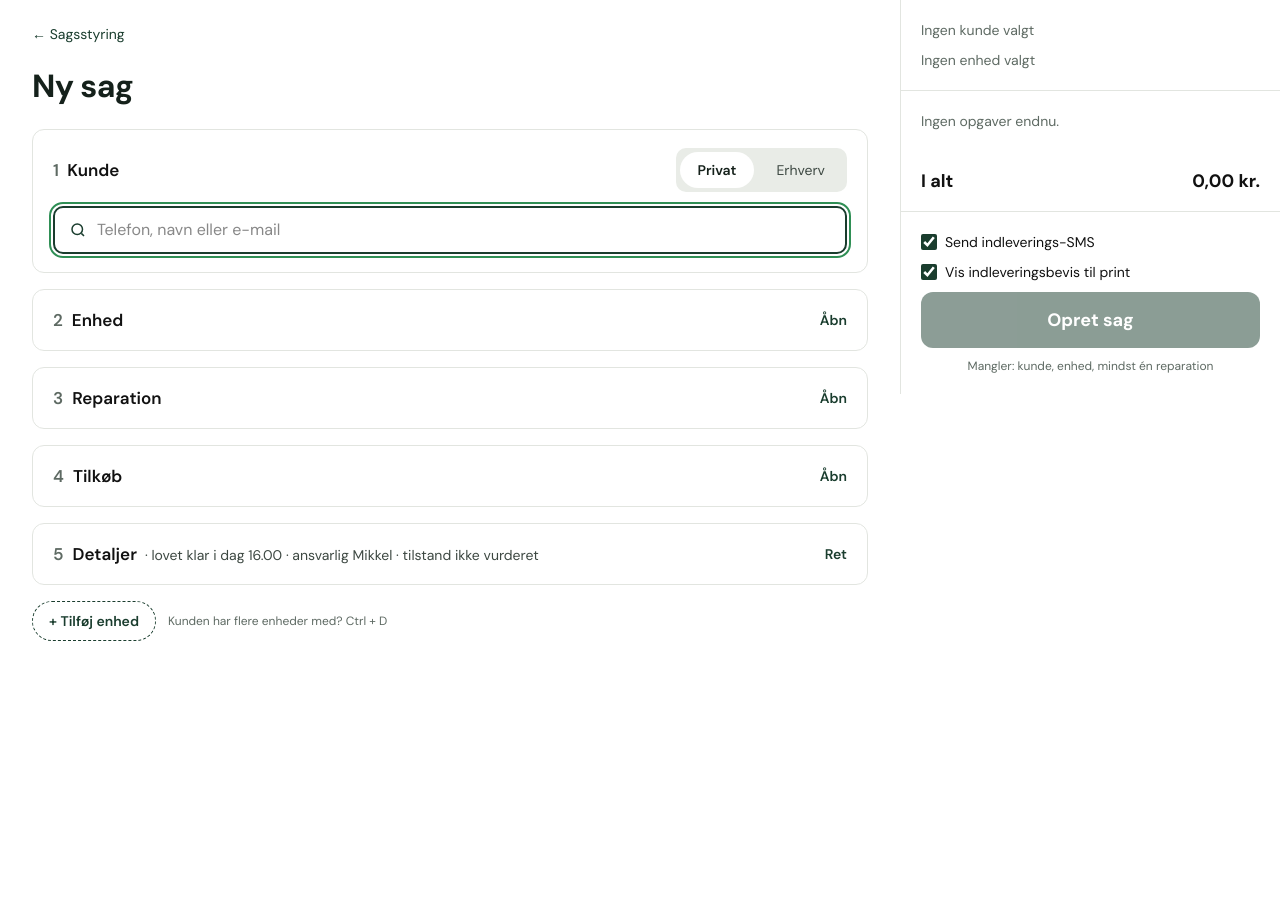
Test: Ny sag: sektionsflow › shows customer search with previous cases and an inline create row
Type "20 45" into the field named "Søg kunde" at (464, 230), box [97,218,831,242]
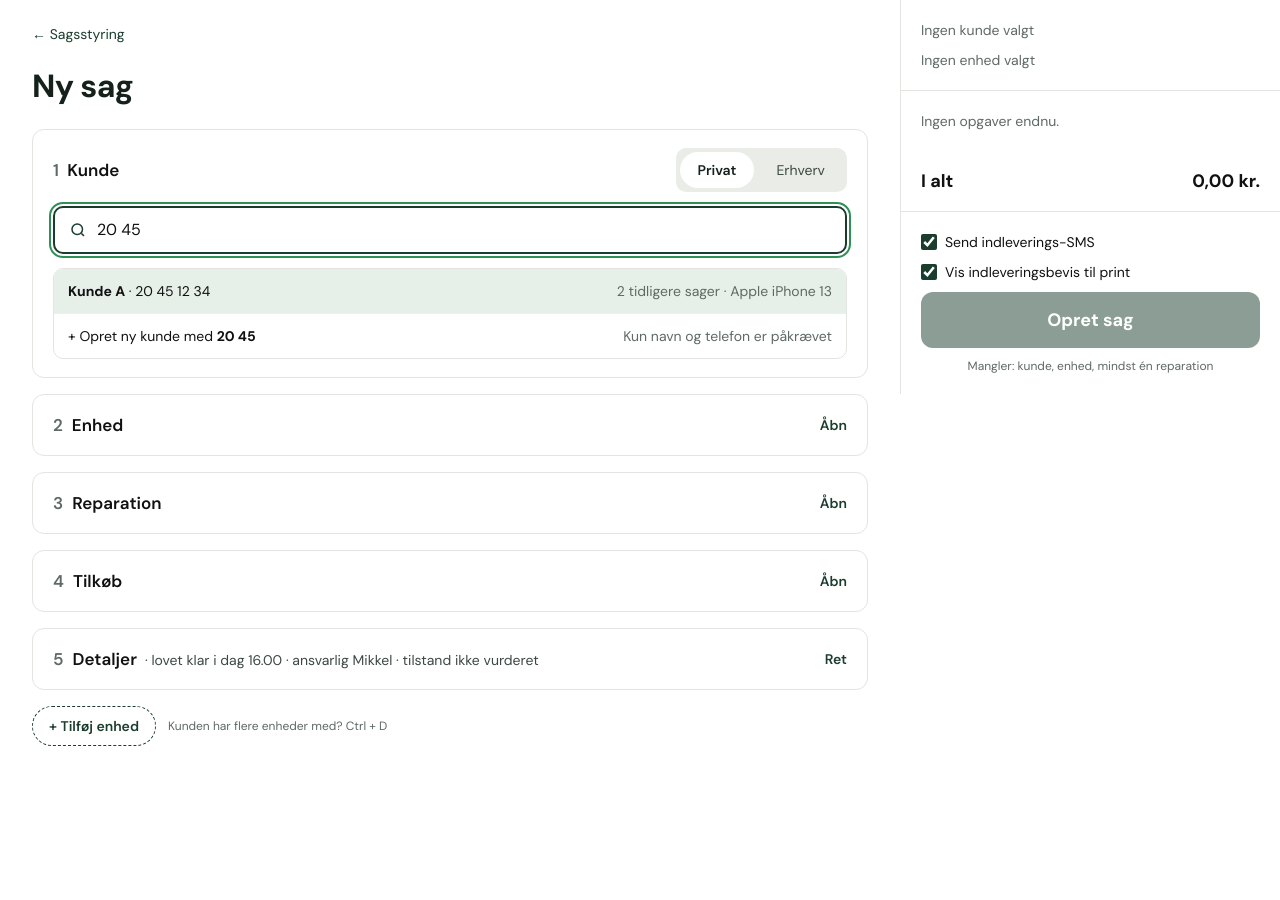
Expected: the button "Kunde A · 20 45 12 34 2 tidligere sager · Apple iPhone 13" is shown, [54,269,846,313]
Expected: the button "+ Opret ny kunde med 20 45 Kun navn og telefon er påkrævet" is shown, [54,313,846,358]
